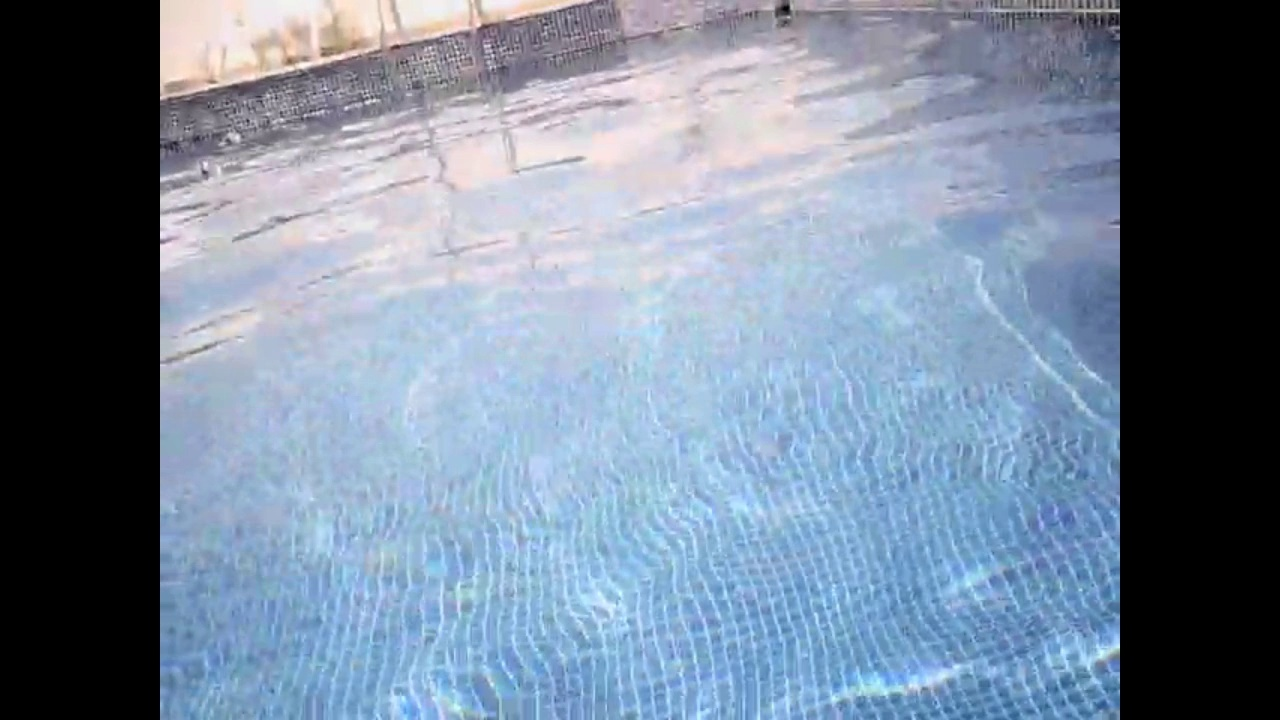debris: (189, 153, 226, 189), (214, 127, 244, 155)
